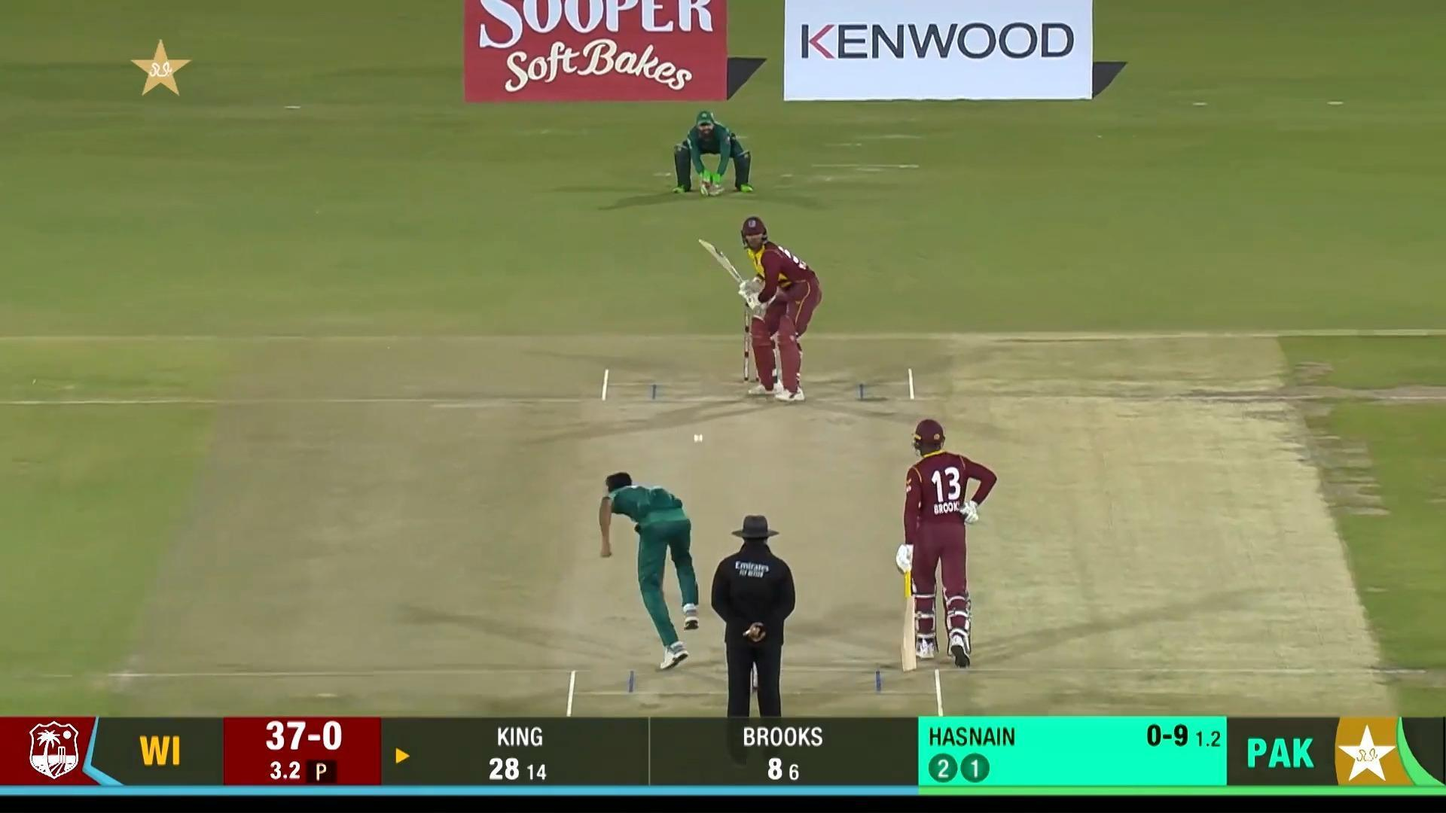BM 1: (699, 216, 822, 404)
BO: (599, 471, 701, 670)
